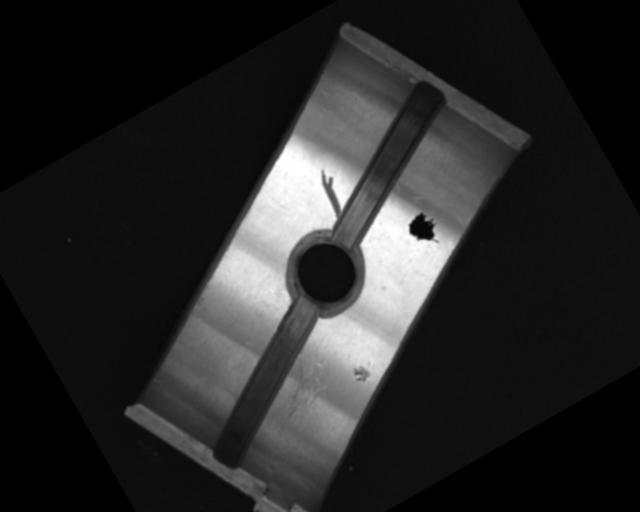blot: (402, 208, 446, 254)
bruise: (349, 359, 377, 386)
gap: (166, 292, 365, 475), (293, 78, 483, 249)
hole: (272, 219, 379, 324)
nick: (311, 166, 351, 218)
scratch: (247, 348, 343, 439)
